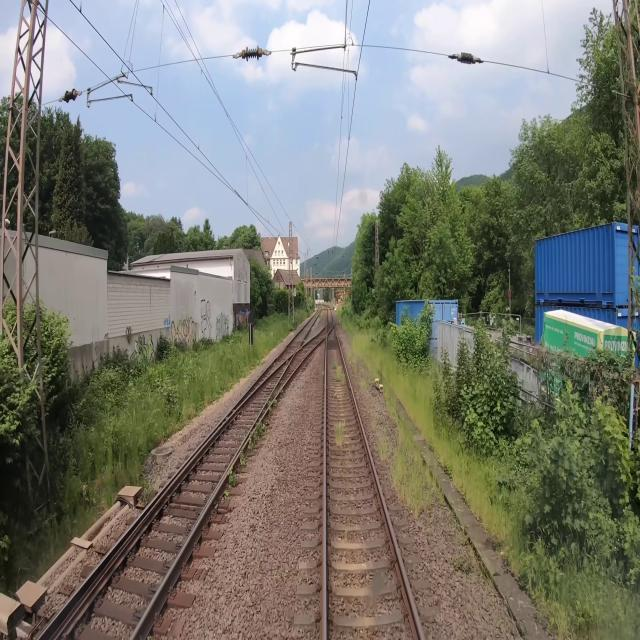Plant: (377, 398, 437, 513), (74, 463, 145, 538), (337, 309, 362, 363), (452, 546, 473, 572), (333, 422, 345, 445), (142, 486, 156, 503), (228, 467, 239, 487), (332, 368, 346, 383), (256, 420, 266, 435), (247, 432, 254, 453), (239, 450, 247, 468), (359, 375, 368, 387), (254, 429, 260, 444), (333, 391, 339, 399), (332, 359, 337, 368), (273, 399, 278, 407), (350, 445, 355, 453), (268, 407, 272, 415)
